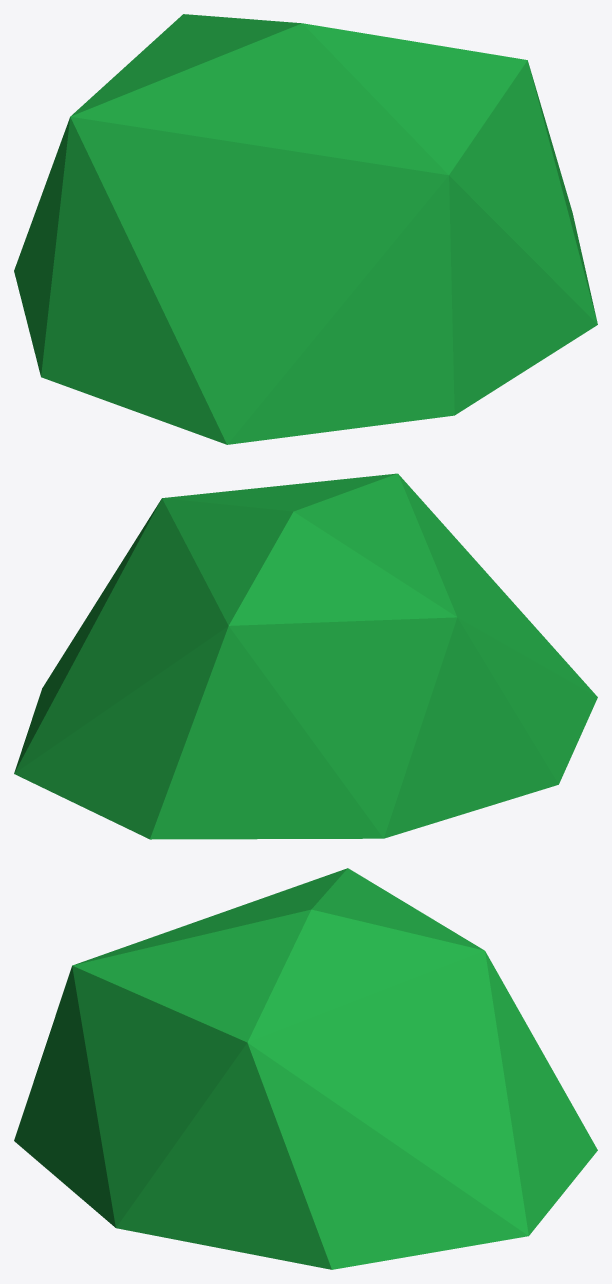
Rendered from Rock 4.fbx.
The picture shows the model from 3 angles, top to bottom: view 1: azimuth 30°, elevation 25°; view 2: azimuth 150°, elevation 25°; view 3: azimuth 270°, elevation 25°; orthographic projection. The views are drawn at different scales.
Visible parts, largest first — view 1: Rock 4; view 2: Rock 4; view 3: Rock 4.
Part boxes in pixels (<box>): Rock 4: <box>14,14,597,444</box>; Rock 4: <box>14,473,597,839</box>; Rock 4: <box>14,868,597,1269</box>.
Bounding box in the file's own units: 28.28 × 12.71 × 28.28.
Materials: 1 (1 with a texture image).
